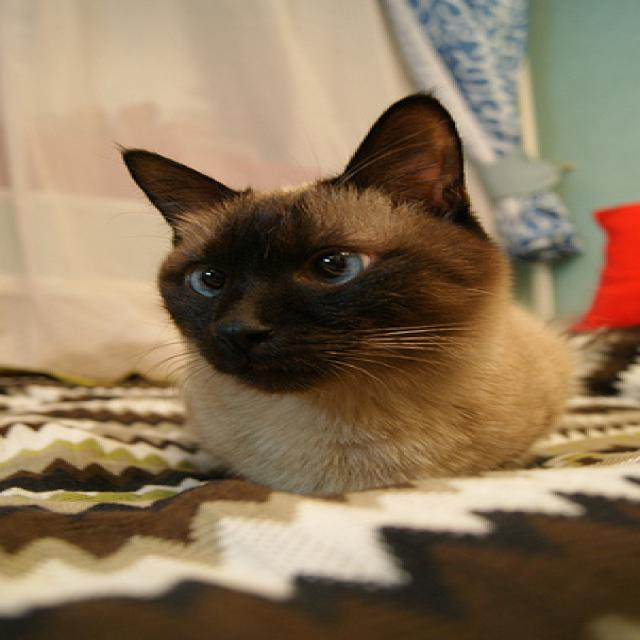Siamese: (115, 87, 576, 501)
